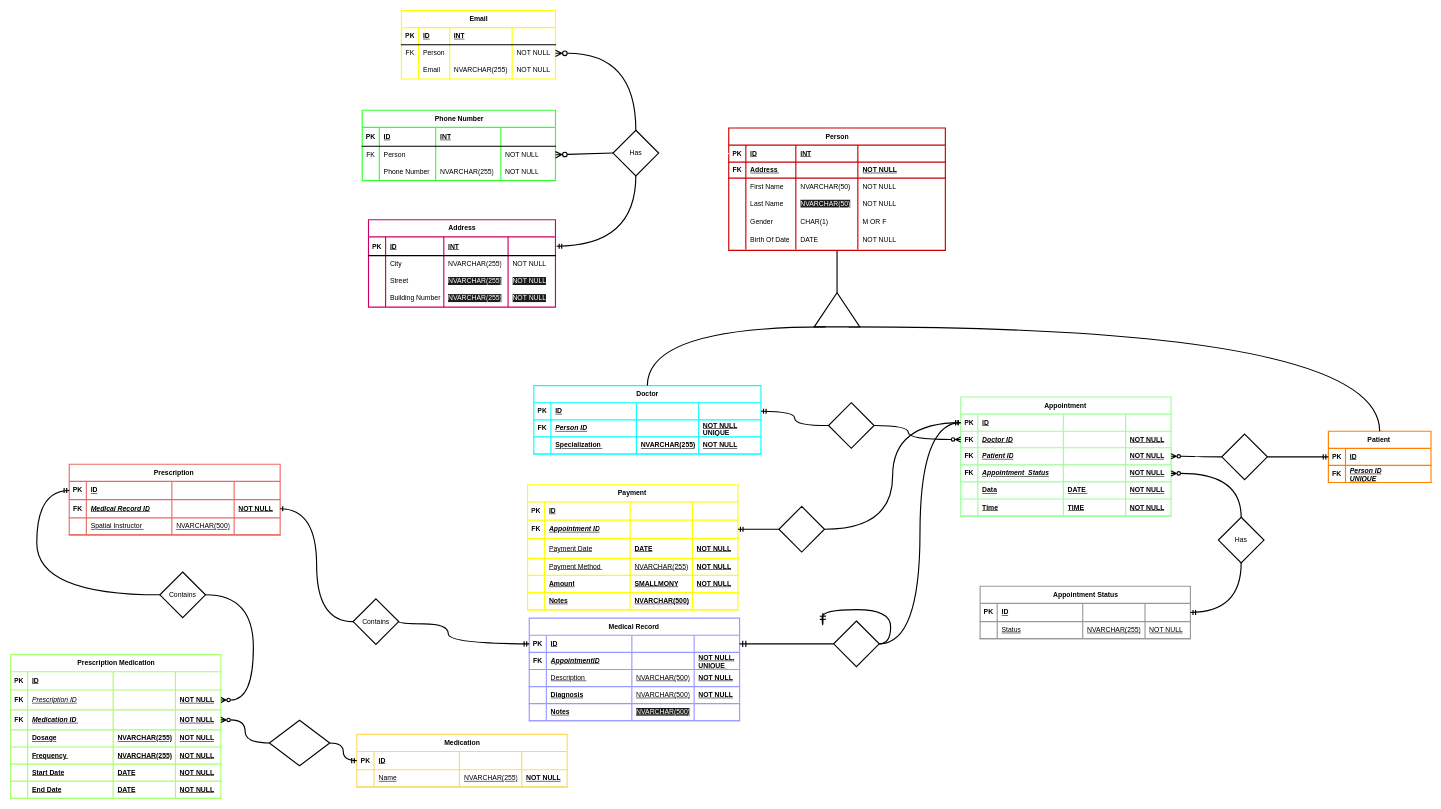
The diagram is 1441 pixels wide and 809 high, and some of its shapes have lost their labels. Each missing label, with the centre of its shape:
Attends: (1244,456)
Covers: (801,529)
Is A: (836,309)
Is prescribed in: (299,742)
Records: (856,643)
Sets: (851,425)
